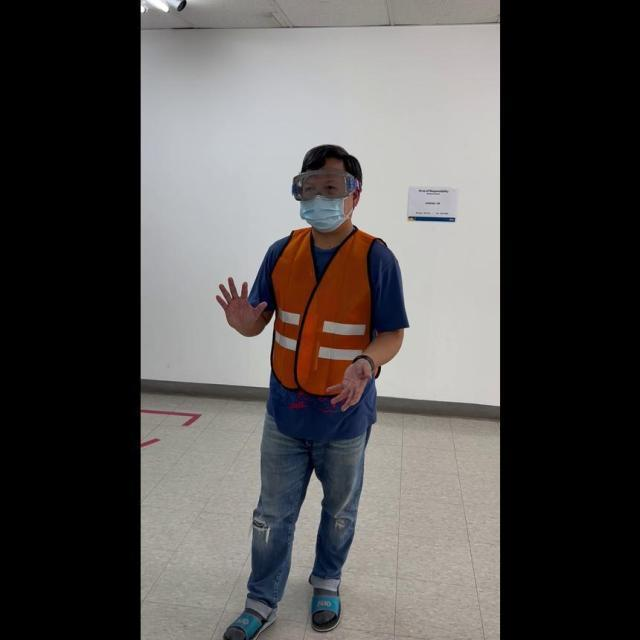bare_hand: (213, 269, 269, 336), (324, 349, 374, 412)
